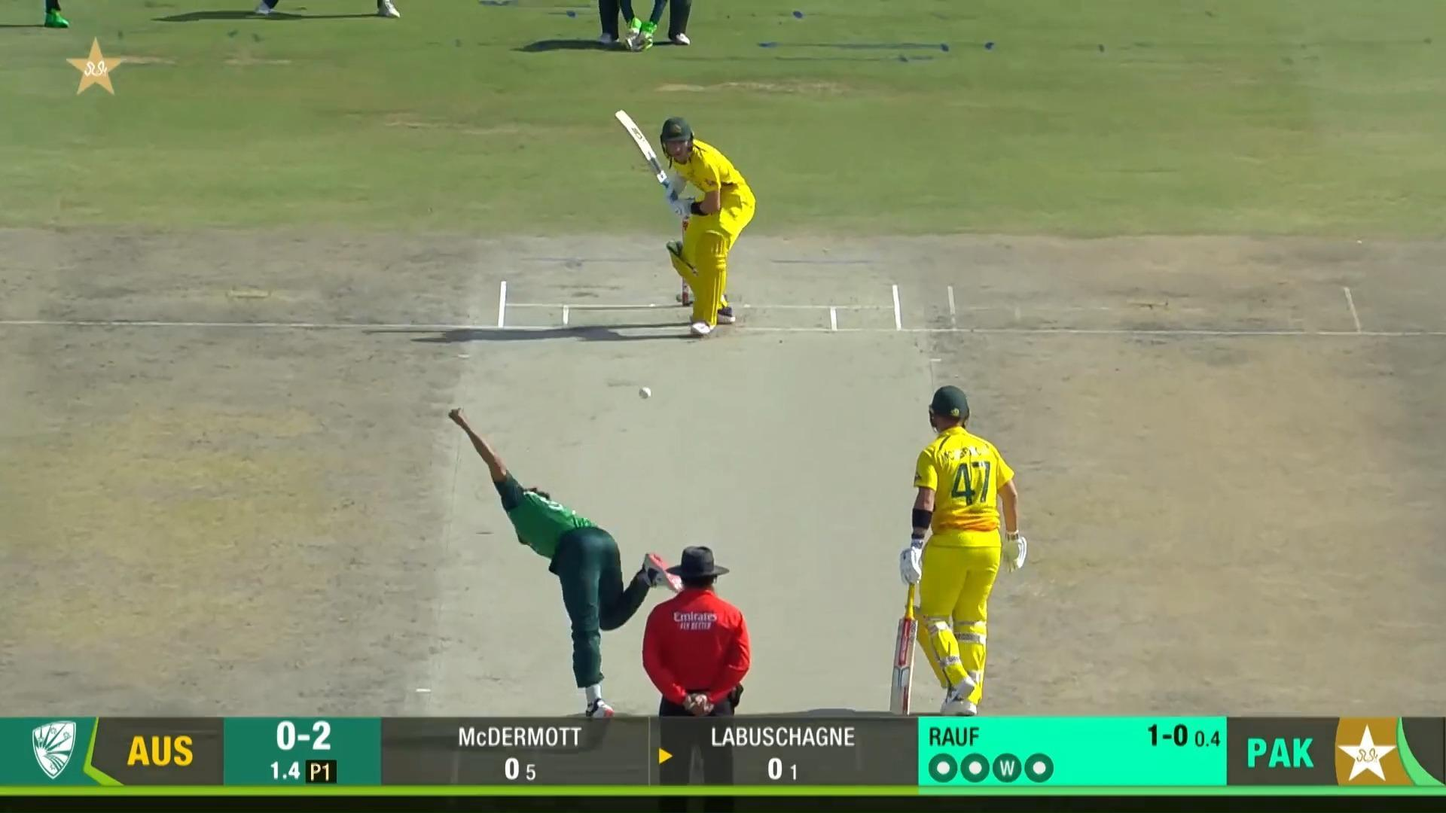BM 1: (613, 106, 757, 338)
BO: (446, 404, 690, 752)
